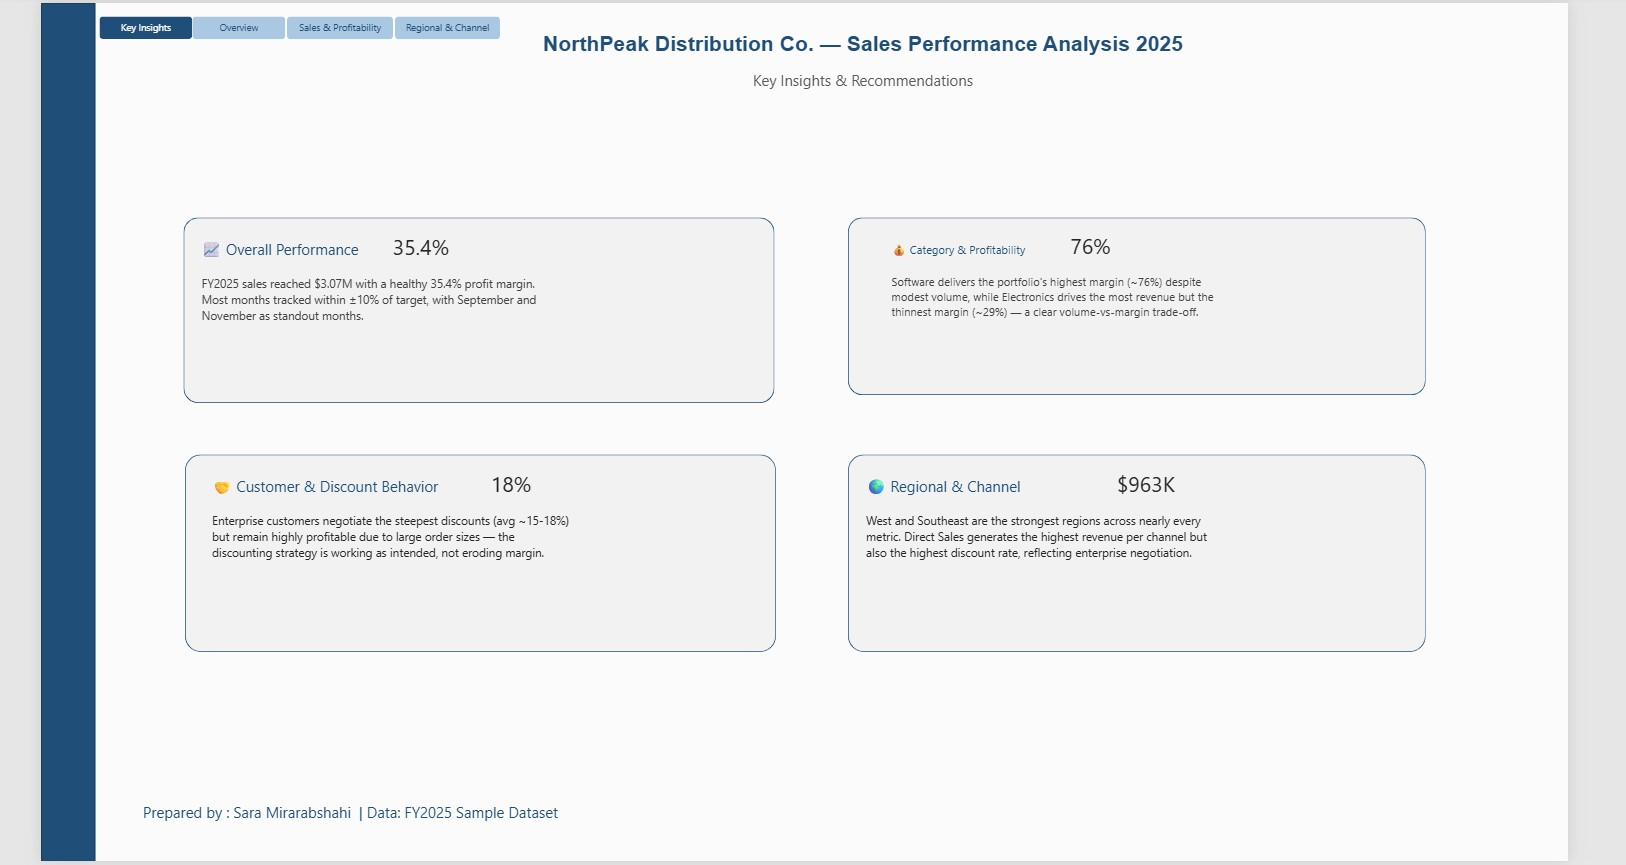

What the dashboard file says about the page in this screenshot:
{"tool":"powerbi","page":{"name":"Key Insights ","canvas":[1920,1080],"ordinal":0},"visuals":[{"type":"shape","box":[0,0,68.3,1080],"z":0,"group":"g5"},{"type":"textbox","box":[473.6,35.8,1120.8,77.4],"z":0},{"type":"shape","box":[180,270,743.3,233.3],"z":0,"group":"g2"},{"type":"shape","box":[1015.7,270,726.7,223.3],"z":0,"group":"g1"},{"type":"shape","box":[180.6,567.8,743.3,248.3],"z":0,"group":"g3"},{"type":"shape","box":[1015,568.3,726.7,248.3],"z":0,"group":"g4"},{"type":"group","id":"g1","title":"Group 1","box":[129,270,1613.4,770],"z":1000},{"type":"textbox","box":[1069.6,287.6,647.1,176.9],"z":1000,"group":"g1"},{"type":"textbox","box":[203.4,288,684.9,186.1],"z":1000,"group":"g2"},{"type":"textbox","box":[214.7,585.9,674.1,180.8],"z":1000,"group":"g3"},{"type":"textbox","box":[1037.9,587.5,669.5,198.1],"z":1000,"group":"g4"},{"type":"group","id":"g2","title":"Group 2","box":[180,270,743.3,233.3],"z":2000},{"type":"group","id":"g3","title":"Group 2","box":[180.6,567.8,743.3,248.3],"z":3000},{"type":"group","id":"g4","title":"Group 2","box":[1015,568.3,726.7,248.3],"z":4000},{"type":"group","id":"g5","title":"Bar Group","box":[0,0,68.3,1080],"z":5000},{"type":"actionButton","box":[191.4,16.4,116.7,28.7],"z":6000},{"type":"actionButton","box":[444.4,16.4,132,28.7],"z":7000},{"type":"actionButton","box":[309.5,16.4,133.3,28.7],"z":8000},{"type":"actionButton","box":[73.3,16.7,116.7,28.3],"z":9000},{"type":"textbox","box":[129,1005,886.7,35],"z":9001,"group":"g1"}]}

Visuals, with their boxes on the page's 1920x1080 design canvas (x1, y1, x2, y2). These are canvas units, not pixel positions in the 1626x865 screenshot, which may show the page scaled, cropped or inside an application window:
shape: (0, 0, 68, 1080)
textbox: (474, 36, 1594, 113)
shape: (180, 270, 923, 503)
shape: (1016, 270, 1742, 493)
shape: (181, 568, 924, 816)
shape: (1015, 568, 1742, 817)
"Group 1" group: (129, 270, 1742, 1040)
textbox: (1070, 288, 1717, 464)
textbox: (203, 288, 888, 474)
textbox: (215, 586, 889, 767)
textbox: (1038, 588, 1707, 786)
"Group 2" group: (180, 270, 923, 503)
"Group 2" group: (181, 568, 924, 816)
"Group 2" group: (1015, 568, 1742, 817)
"Bar Group" group: (0, 0, 68, 1080)
actionButton: (191, 16, 308, 45)
actionButton: (444, 16, 576, 45)
actionButton: (310, 16, 443, 45)
actionButton: (73, 17, 190, 45)
textbox: (129, 1005, 1016, 1040)
